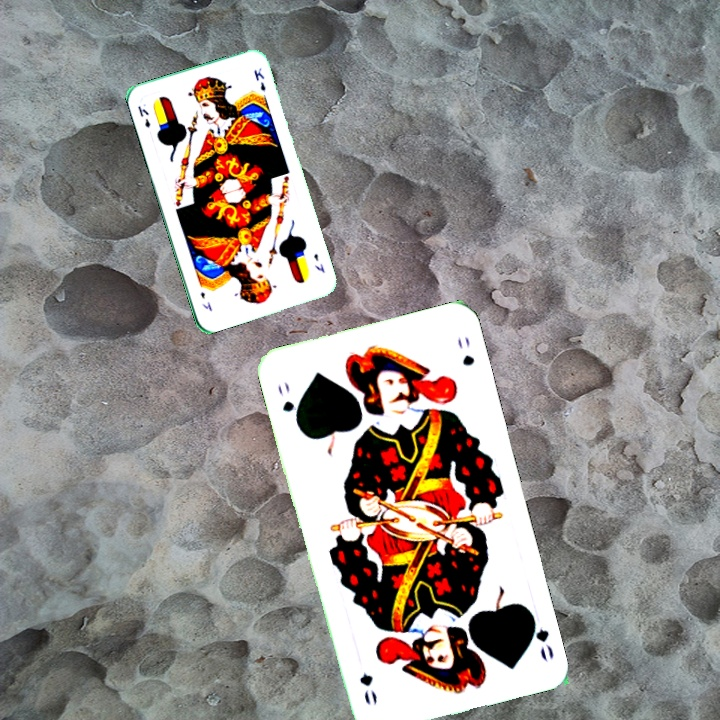EK: (134, 102, 153, 130), (310, 249, 327, 275)
GO: (524, 607, 556, 664), (273, 378, 302, 428)
